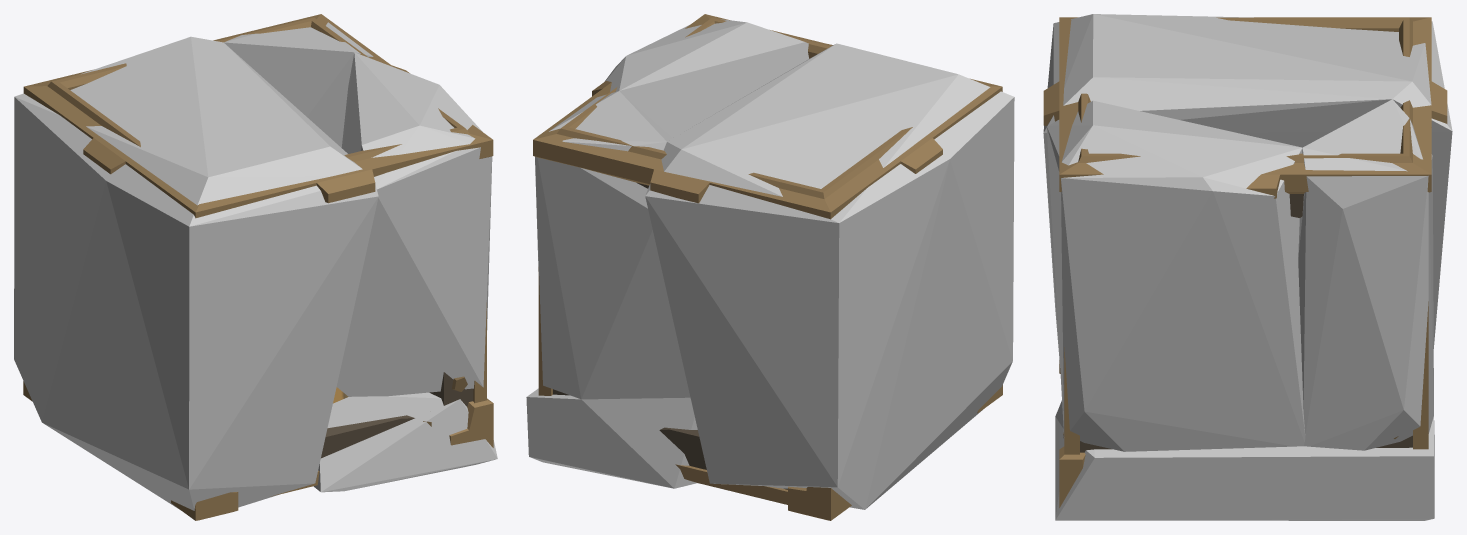
The model's file is SM_Prop_Crate_02.fbx.
The picture shows the model from 3 angles, left to right: view 1: azimuth 30°, elevation 25°; view 2: azimuth 150°, elevation 25°; view 3: azimuth 270°, elevation 25°; orthographic projection. The views are drawn at different scales.
Visible parts, largest first — view 1: SM_Prop_Crate_02_ConvexHulls, SM_Prop_Crate_02; view 2: SM_Prop_Crate_02_ConvexHulls, SM_Prop_Crate_02; view 3: SM_Prop_Crate_02_ConvexHulls, SM_Prop_Crate_02.
Boxes of the visible parts, bbox=[...] form: SM_Prop_Crate_02_ConvexHulls: bbox=[14, 22, 497, 510]; SM_Prop_Crate_02: bbox=[23, 14, 493, 520]; SM_Prop_Crate_02_ConvexHulls: bbox=[526, 19, 1014, 509]; SM_Prop_Crate_02: bbox=[533, 14, 1002, 520]; SM_Prop_Crate_02_ConvexHulls: bbox=[1043, 14, 1452, 520]; SM_Prop_Crate_02: bbox=[1043, 17, 1447, 507].
Bounding box in the file's own units: 97.61 × 95.36 × 95.04.
3 materials, 2 textured.
